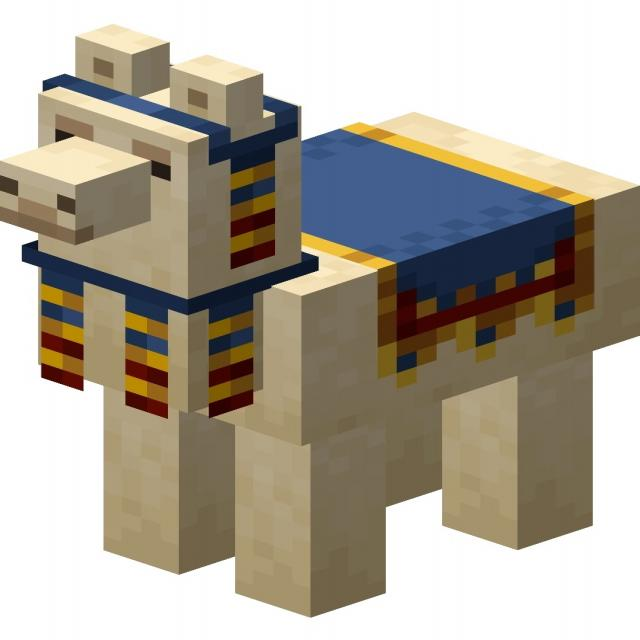Llama: (1, 25, 640, 622)
